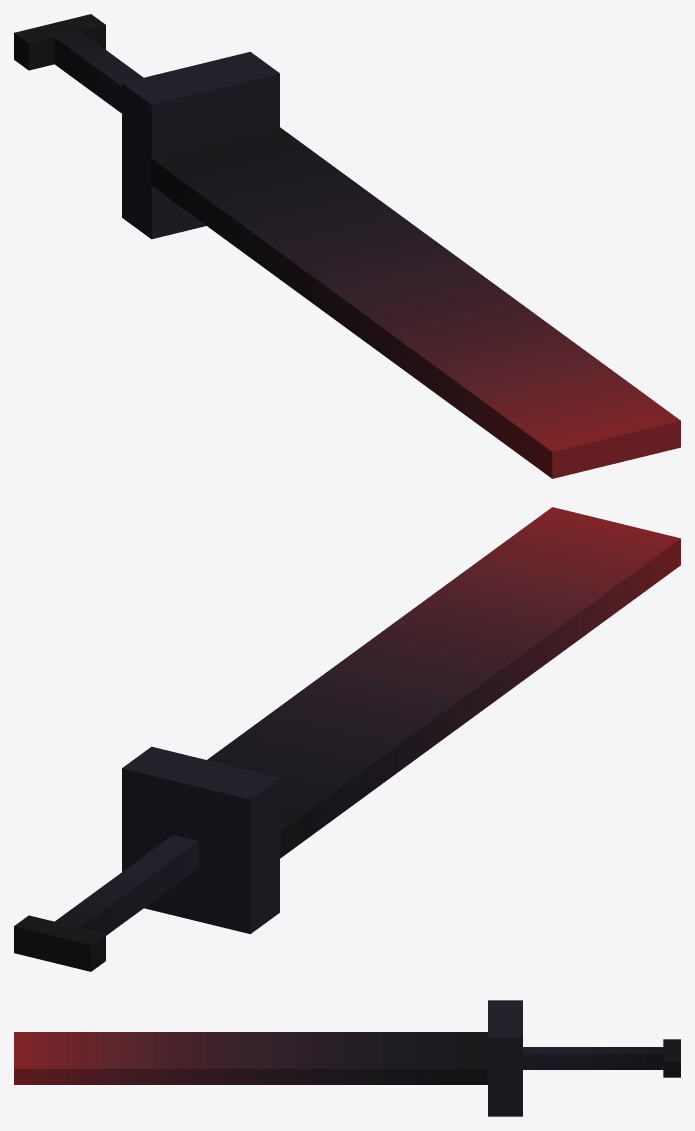
The model's file is Weapon056.fbx.
3 views of the same model, one above another, from view 1: azimuth 30°, elevation 25°; view 2: azimuth 150°, elevation 25°; view 3: azimuth 270°, elevation 25° (orthographic). The views are drawn at different scales.
Visible parts, largest first — view 1: Weapon056; view 2: Weapon056; view 3: Weapon056.
Part boxes in pixels (x1,y1,x2,y2): Weapon056: (14,14,680,478); Weapon056: (14,507,680,971); Weapon056: (14,1000,680,1116).
Size of the model in its own units: 5 by 5 by 38.
